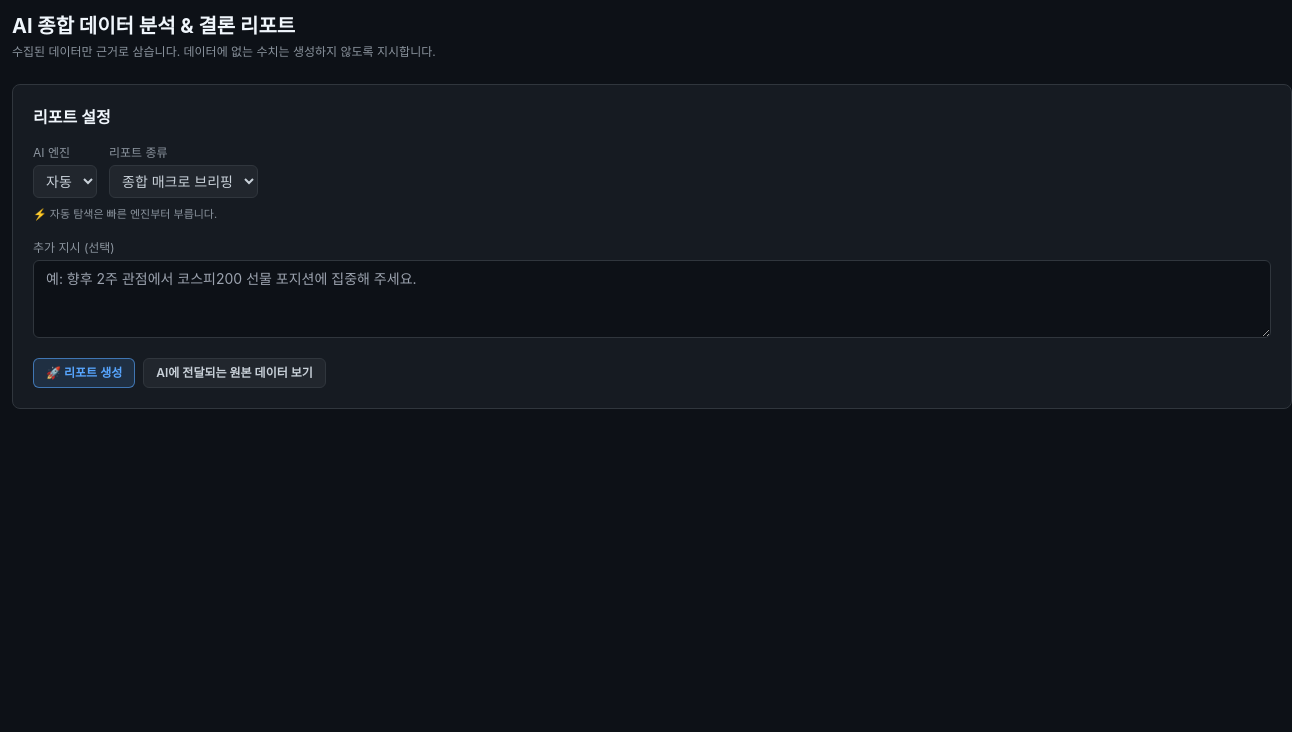
Test: 🤖 AI 리포트 › 실패하면 문구를 보여 주고, 앞서 받은 리포트는 지우지 않는다
Click the button "🚀 리포트 생성": (84, 373) [33,358,135,388]
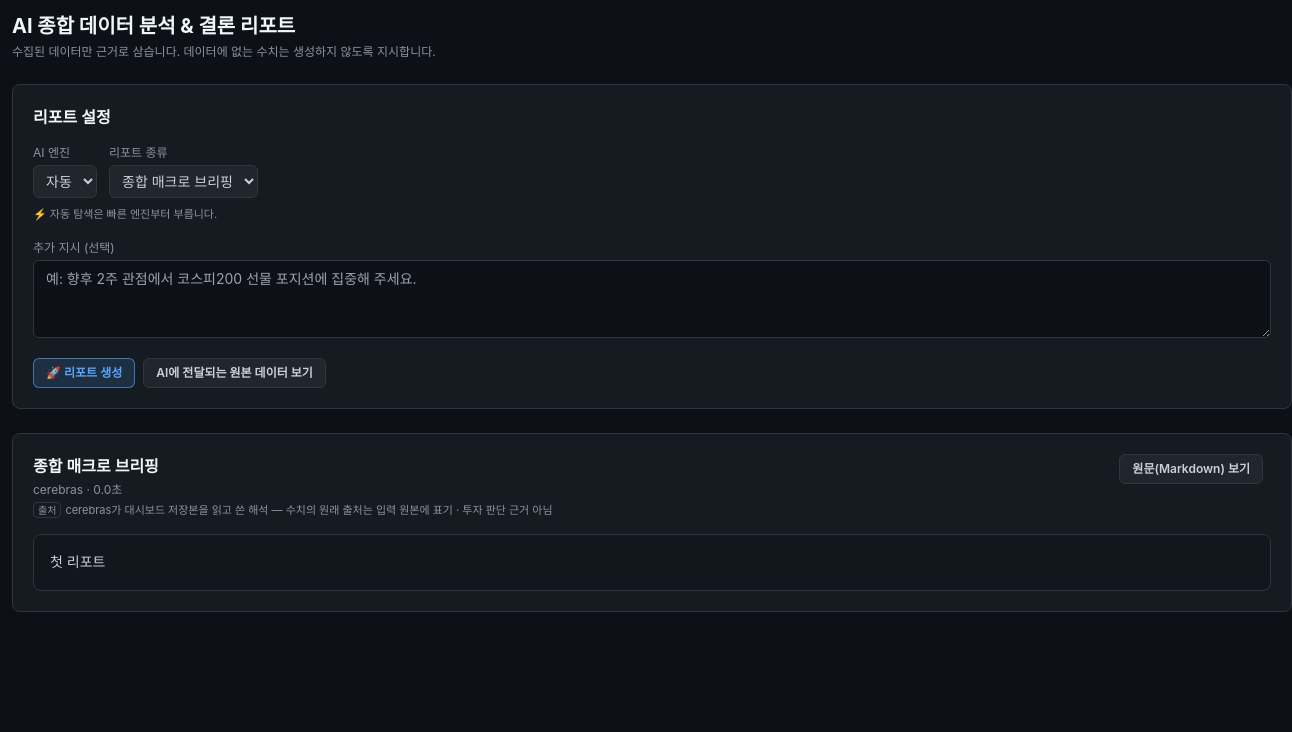
Check: the text "첫 리포트" is shown, box [50,553,106,570]
Click the button "🚀 리포트 생성": (84, 373) [33,358,135,388]
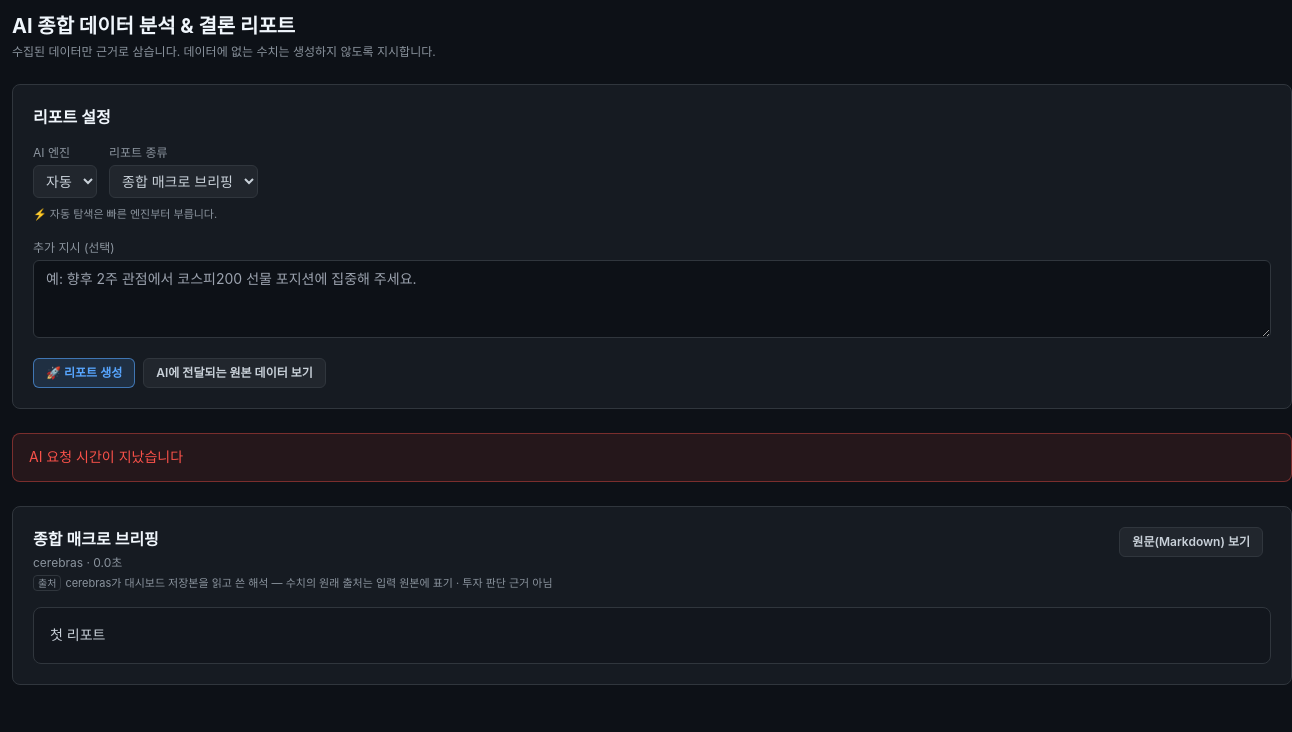
Check: the text "첫 리포트" is shown, box [50,626,106,643]
Check: the text "AI 요청 시간이 지났습니다" is shown, box [12,433,1291,482]
